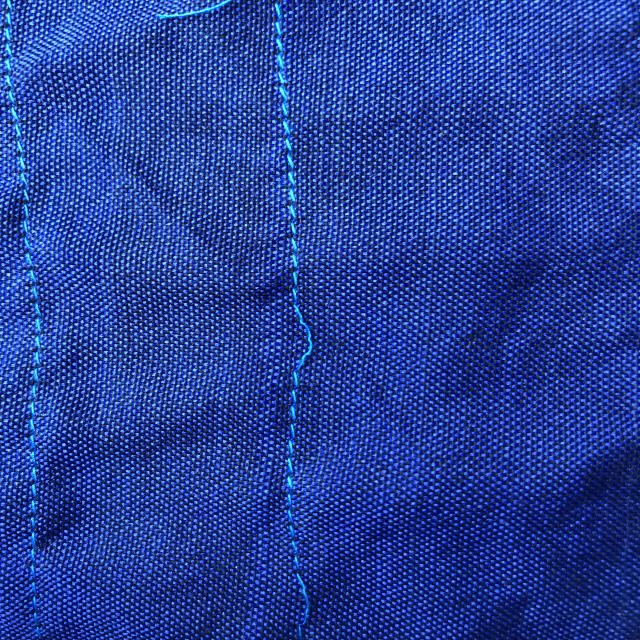skip: (266, 274, 342, 380), (280, 556, 330, 633)
